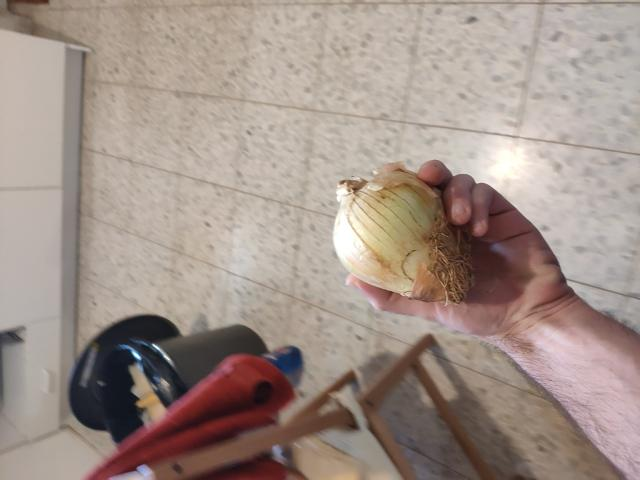onion: (329, 172, 465, 306)
